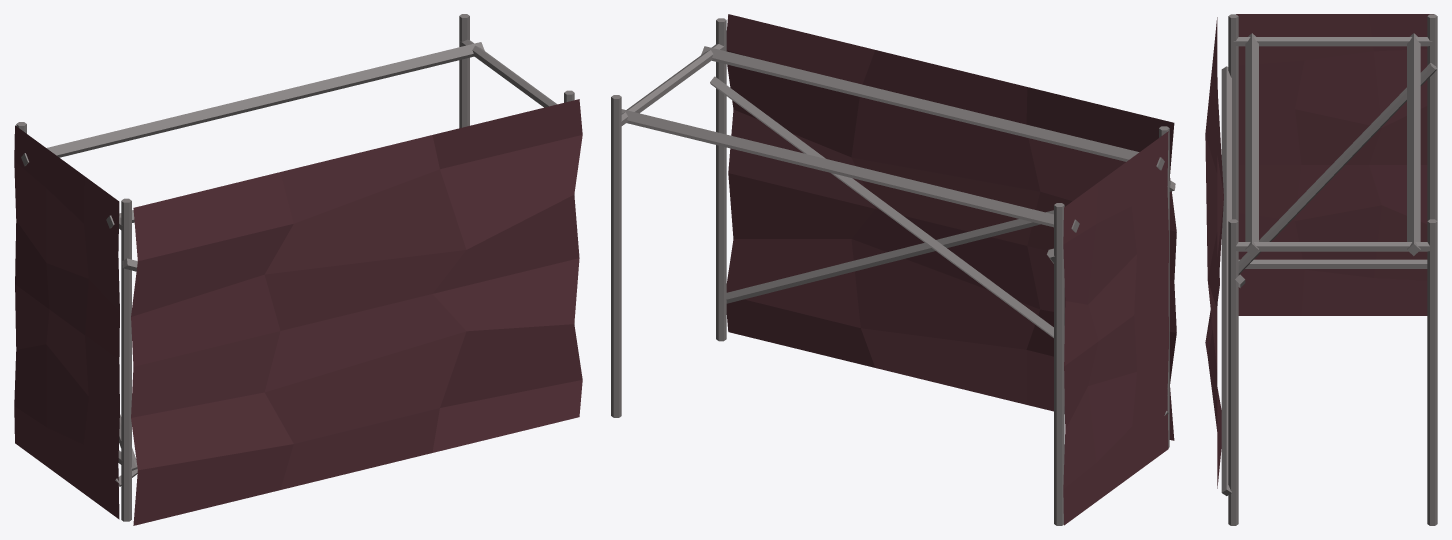
Rendered from scaffolding-end-covered.fbx.
3 views of the same model, side by side, from view 1: azimuth 30°, elevation 25°; view 2: azimuth 150°, elevation 25°; view 3: azimuth 270°, elevation 25° (orthographic). The views are drawn at different scales.
Visible parts, largest first — view 1: scaffolding-end-covered; view 2: scaffolding-end-covered; view 3: scaffolding-end-covered.
Boxes of the visible parts, x1=… form: scaffolding-end-covered: x1=14, y1=14, x2=582, y2=525; scaffolding-end-covered: x1=611, y1=14, x2=1176, y2=525; scaffolding-end-covered: x1=1205, y1=14, x2=1437, y2=525.
Size of the model in its own units: 3.01 by 2.01 by 1.39.
